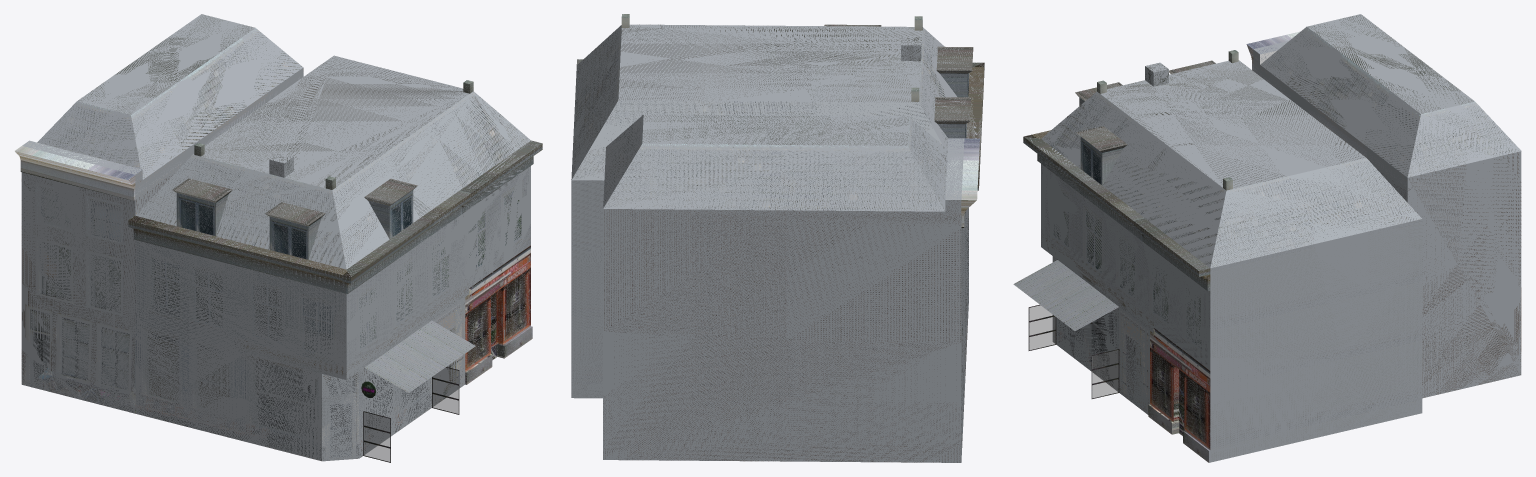
File: House11.fbx
The picture shows the model from 3 angles, left to right: view 1: azimuth 30°, elevation 25°; view 2: azimuth 150°, elevation 25°; view 3: azimuth 270°, elevation 25°; orthographic projection. The views are drawn at different scales.
Visible parts, largest first — view 1: Group8, Model, Group1, Group2, Group3, Group9, Group_6_2, Group_6_1, Group_6_3, Group_3_1, Group_3_2; view 2: Model, Group8, Group_6_1, Group_6_2, Group9, Group1; view 3: Group8, Model, Group2, Group3, Group_6_3, Group_3_2, Group_3_1.
Part boxes in pixels (x1=…): Group8: x1=135, y1=55, x2=532, y2=461; Model: x1=21, y1=14, x2=303, y2=413; Group1: x1=128, y1=215, x2=350, y2=293; Group2: x1=346, y1=140, x2=542, y2=293; Group3: x1=365, y1=320, x2=475, y2=392; Group9: x1=15, y1=146, x2=135, y2=200; Group_6_2: x1=172, y1=178, x2=232, y2=236; Group_6_1: x1=265, y1=202, x2=325, y2=259; Group_6_3: x1=364, y1=178, x2=417, y2=239; Group_3_1: x1=363, y1=411, x2=390, y2=462; Group_3_2: x1=432, y1=367, x2=459, y2=414; Model: x1=603, y1=114, x2=964, y2=462; Group8: x1=571, y1=24, x2=969, y2=398; Group_6_1: x1=936, y1=46, x2=973, y2=97; Group_6_2: x1=934, y1=97, x2=970, y2=138; Group9: x1=961, y1=138, x2=979, y2=227; Group1: x1=966, y1=62, x2=984, y2=190; Group8: x1=1041, y1=60, x2=1422, y2=462; Model: x1=1253, y1=14, x2=1521, y2=398; Group2: x1=1023, y1=136, x2=1210, y2=291; Group3: x1=1013, y1=260, x2=1118, y2=330; Group_6_3: x1=1076, y1=126, x2=1127, y2=185; Group_3_2: x1=1091, y1=349, x2=1119, y2=398; Group_3_1: x1=1028, y1=304, x2=1056, y2=350.
Size of the model in its own units: 17.59 by 10.3 by 17.71.
